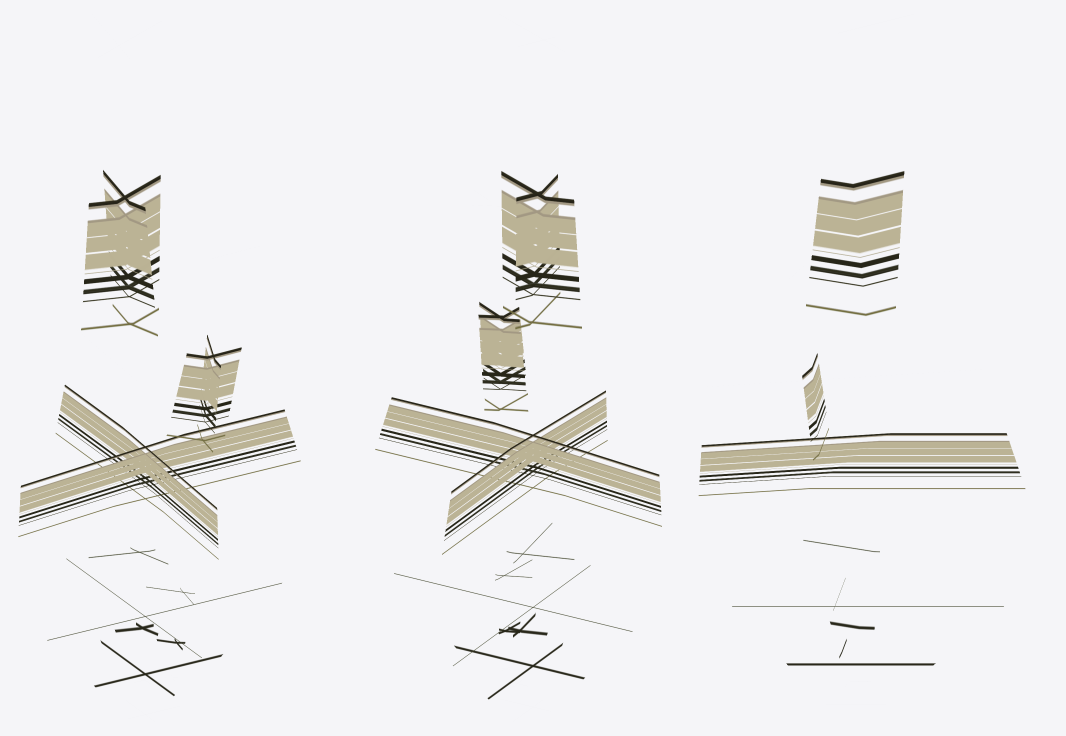
The model's file is SM_FOL_Grass_Tall_02_A.glb.
3 renders of one model, left to right at view 1: azimuth 30°, elevation 25°; view 2: azimuth 150°, elevation 25°; view 3: azimuth 270°, elevation 25°, orthographic.
Parts seen in each view (by area): view 1: SM_FOL_Grass_Tall_02_A; view 2: SM_FOL_Grass_Tall_02_A; view 3: SM_FOL_Grass_Tall_02_A.
Boxes of the visible parts, left/top/right/bottom form: SM_FOL_Grass_Tall_02_A: left=18, top=170, right=300, bottom=695; SM_FOL_Grass_Tall_02_A: left=375, top=171, right=661, bottom=699; SM_FOL_Grass_Tall_02_A: left=698, top=171, right=1025, bottom=665.
Size of the model in its own units: 0.5273 by 1.11 by 0.5273.
Materials: 1 (1 with a texture image).
